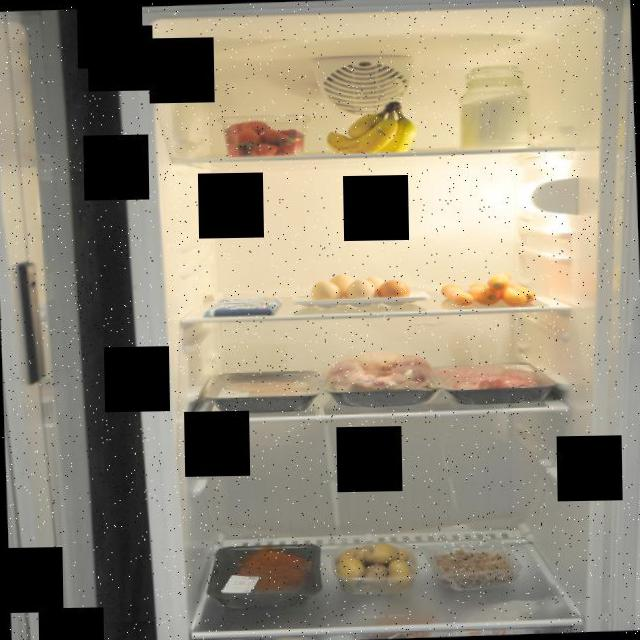Carne pollo: (319, 339, 447, 416), (202, 368, 318, 414)
Carne vacuno: (200, 539, 326, 613)
Gambas/Langostinos: (428, 542, 522, 593)
Huevos: (308, 268, 410, 310)
Patata: (332, 540, 420, 596)
Plátano: (318, 97, 420, 156)
Zanahoria: (434, 266, 542, 309)
